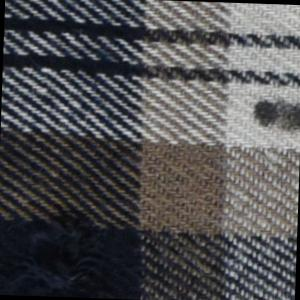Damage: (3, 203, 119, 300)
Stain: (253, 98, 300, 136)
